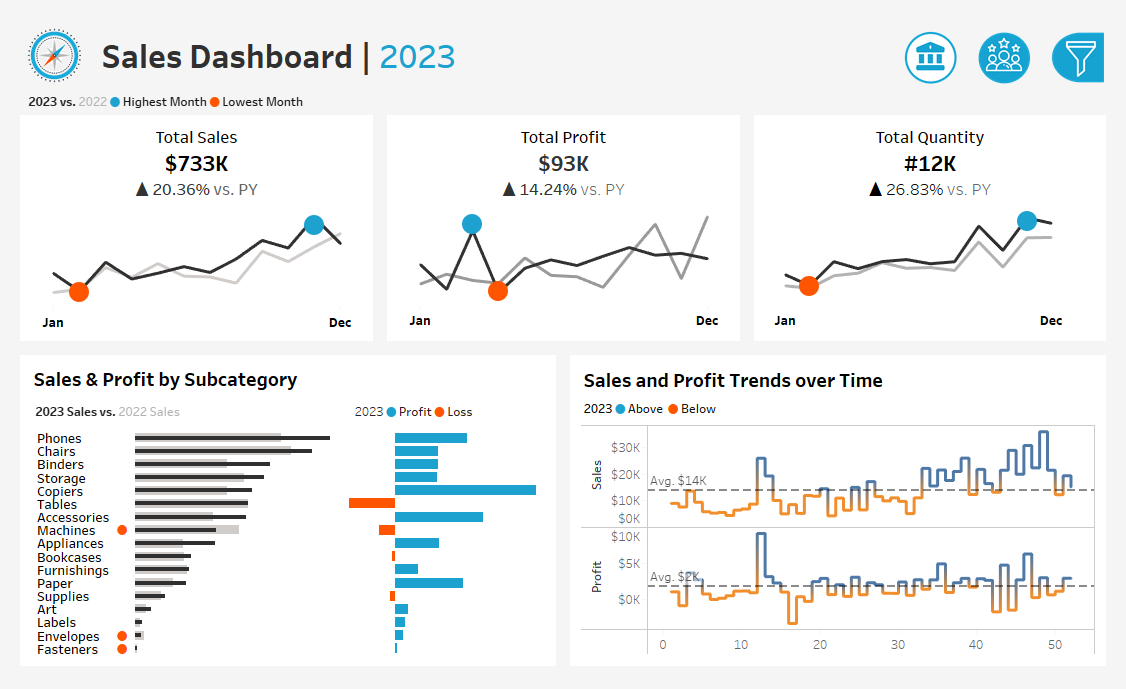

This screenshot's page, from the dashboard's own definition file:
{"tool":"tableau","page":{"name":"Sales Dashboard","canvas":[1100,650],"ordinal":1},"visuals":[{"type":"image","param":"E:/BA/Datasets/Non-EU-Training-Datasets/Non-EU Training Datasets/TableauProject-","box":[0,0,82,64]},{"type":"text","box":[82,0,1018,64]},{"type":"dashboard-object","box":[881,4,74,61]},{"type":"dashboard-object","box":[955,4,73,61]},{"type":"dashboard-object","box":[1028,4,73,61]},{"type":"blank","box":[904,14,182,62]},{"type":"worksheet","title":"Legend of KPI","mark":"Automatic","box":[0,64,1100,28]},{"type":"text","box":[904,76,182,51]},{"type":"worksheet","title":"Sales KPI","mark":"Automatic","rows":["Calculation_718605619836719108"],"cols":["Order Date"],"box":[0,92,367,233]},{"type":"worksheet","title":"Profit KPI","mark":"Automatic","rows":["Max/Min Sales (copy)_689050747516375043"],"cols":["Order Date"],"box":[367,92,367,233]},{"type":"worksheet","title":"Quantity KPI","mark":"Line","rows":["Max/Min Profit (copy)_279786131400237059"],"cols":["Order Date"],"box":[734,92,366,233]},{"type":"parameter","param":"[Parameters].[Parameter 1]","box":[904,127,182,80]},{"type":"blank","box":[904,207,182,36]},{"type":"text","box":[904,243,182,31]},{"type":"filter","title":"Sales KPI","param":"[federated.00qonoe1pyf5vi1a6pr9v0hjao9x].[none:Category:nk]","box":[904,274,182,46]},{"type":"filter","title":"Sales KPI","param":"[federated.00qonoe1pyf5vi1a6pr9v0hjao9x].[none:Sub-Category:nk]","box":[904,320,182,91]},{"type":"text","box":[14,339,522,33]},{"type":"text","box":[564,339,522,34]},{"type":"worksheet","title":"Subcategory Legend","mark":"Automatic","box":[14,372,321,32]},{"type":"text","box":[335,372,201,32]},{"type":"text","box":[564,373,522,25]},{"type":"worksheet","title":"Weekly trend","mark":"Automatic","rows":["Calculation_718605619826704384","Calculation_689050747515662336"],"cols":["Order Date"],"box":[564,398,522,238]},{"type":"worksheet","title":"Sales & Profit by Sub-Category","mark":"Bar","rows":["Sub-Category","Calculation_243475859424219137"],"cols":["CY Sales (copy)_718605619827040257","Calculation_718605619826704384","Calculation_689050747515662336"],"box":[14,404,522,231.9]},{"type":"text","box":[904,411,182,31]},{"type":"filter","title":"Sales KPI","param":"[federated.00qonoe1pyf5vi1a6pr9v0hjao9x].[none:Region:nk]","box":[904,442,182,52]},{"type":"filter","title":"Sales KPI","param":"[federated.00qonoe1pyf5vi1a6pr9v0hjao9x].[none:State:nk]","box":[904,494,182,52]},{"type":"filter","title":"Sales KPI","param":"[federated.00qonoe1pyf5vi1a6pr9v0hjao9x].[none:City:nk]","box":[904,546,182,52]}]}

Visuals, with their boxes on the page's 1100x650 design canvas (x1, y1, x2, y2). These are canvas units, not pixel positions in the 1126x689 screenshot, which may show the page scaled, cropped or inside an application window:
image: Rect(0, 0, 82, 64)
text: Rect(82, 0, 1100, 64)
dashboard-object: Rect(881, 4, 955, 65)
dashboard-object: Rect(955, 4, 1028, 65)
dashboard-object: Rect(1028, 4, 1101, 65)
blank: Rect(904, 14, 1086, 76)
"Legend of KPI" worksheet: Rect(0, 64, 1100, 92)
text: Rect(904, 76, 1086, 127)
"Sales KPI" worksheet: Rect(0, 92, 367, 325)
"Profit KPI" worksheet: Rect(367, 92, 734, 325)
"Quantity KPI" worksheet (Line marks): Rect(734, 92, 1100, 325)
parameter: Rect(904, 127, 1086, 207)
blank: Rect(904, 207, 1086, 243)
text: Rect(904, 243, 1086, 274)
"Sales KPI" filter: Rect(904, 274, 1086, 320)
"Sales KPI" filter: Rect(904, 320, 1086, 411)
text: Rect(14, 339, 536, 372)
text: Rect(564, 339, 1086, 373)
"Subcategory Legend" worksheet: Rect(14, 372, 335, 404)
text: Rect(335, 372, 536, 404)
text: Rect(564, 373, 1086, 398)
"Weekly trend" worksheet: Rect(564, 398, 1086, 636)
"Sales & Profit by Sub-Category" worksheet (Bar marks): Rect(14, 404, 536, 636)
text: Rect(904, 411, 1086, 442)
"Sales KPI" filter: Rect(904, 442, 1086, 494)
"Sales KPI" filter: Rect(904, 494, 1086, 546)
"Sales KPI" filter: Rect(904, 546, 1086, 598)
